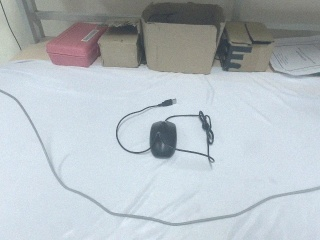box: (140, 1, 227, 75), (44, 19, 110, 71), (215, 20, 275, 74), (98, 20, 145, 70)
mouse: (149, 120, 178, 159)
